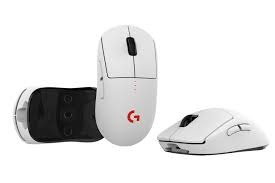mouse: (99, 24, 160, 147), (158, 105, 268, 159), (10, 86, 98, 147)
